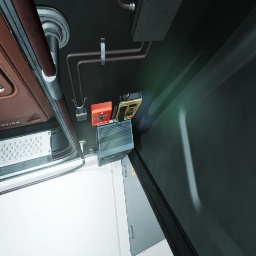EmergencyPhone ,: (112, 90, 142, 126)
FireAlarm ,: (91, 102, 112, 126)
